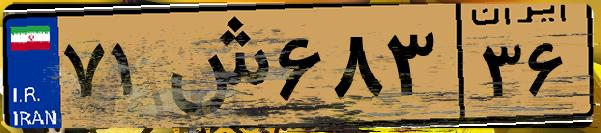1: (110, 28, 158, 98)
3: (385, 28, 445, 110), (475, 38, 525, 113)
6: (270, 28, 330, 110), (525, 38, 570, 115)
7: (57, 26, 110, 100)
8: (330, 28, 385, 110)
ش: (158, 12, 270, 120)
